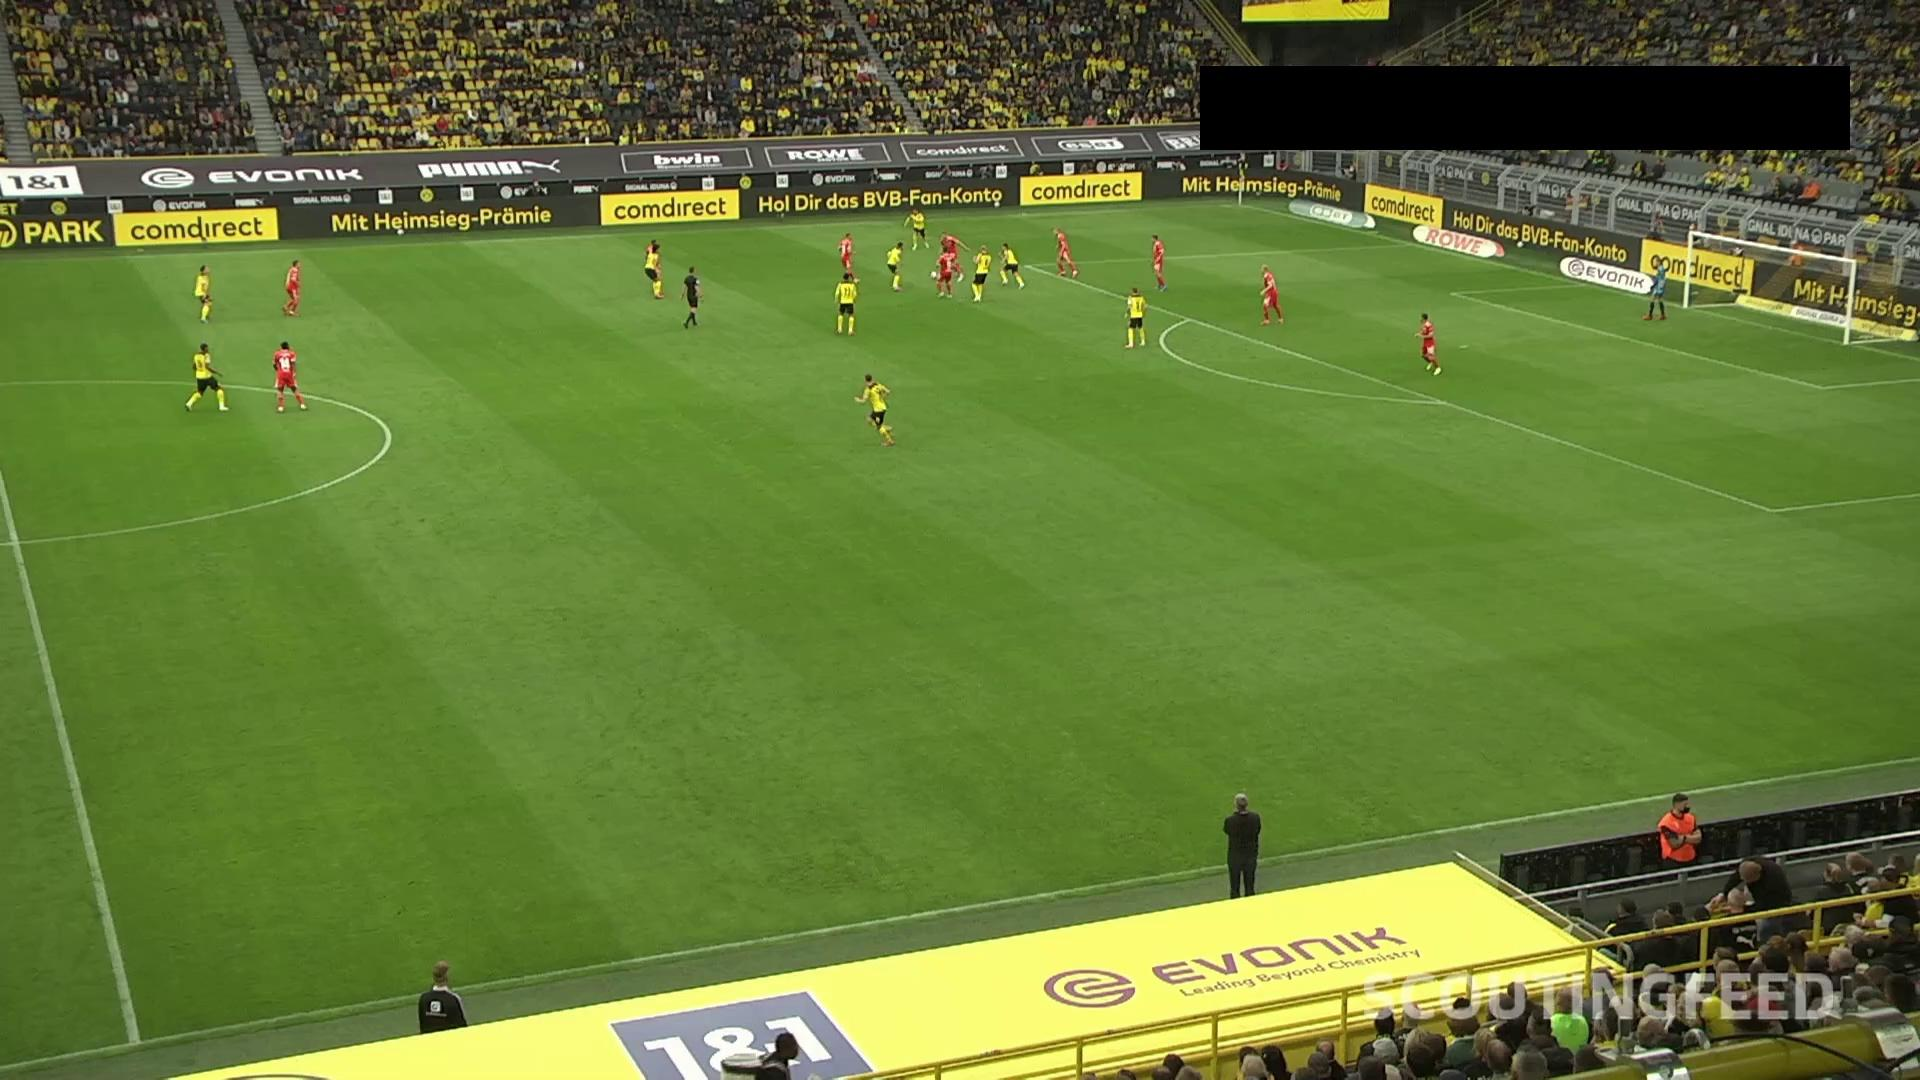Location-of-ball: (926, 266, 944, 280)
